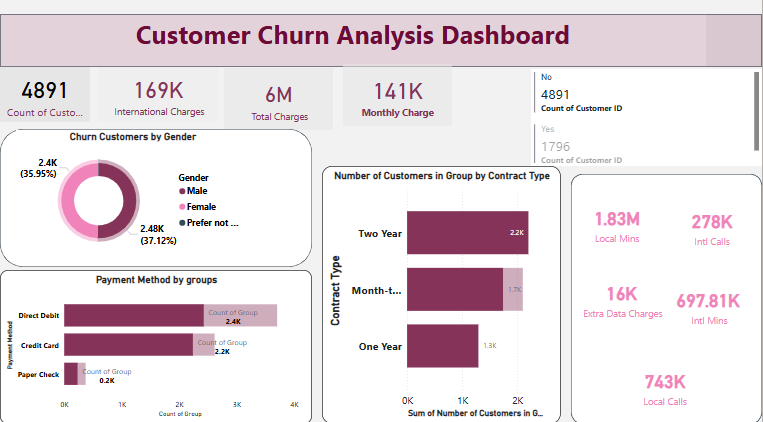

This screenshot's page, from the dashboard's own definition file:
{"tool":"powerbi","page":{"name":"Page 1","canvas":[1280,720],"ordinal":0},"visuals":[{"type":"card","fields":{"Values":["CountNonNull(Vertex Mobile Net - Data.Customer ID)"]},"box":[0,120.9,151.2,92.4],"z":0},{"type":"textbox","box":[0,31.9,1185.9,89],"z":1000},{"type":"shape","box":[0,31.9,1280,89],"z":2000},{"type":"card","fields":{"Values":["Sum(Vertex Mobile Net - Data.Extra International Charges)"]},"box":[164.6,120.9,201.6,92.4],"z":3000},{"type":"card","fields":{"Values":["Sum(Vertex Mobile Net - Data.Total Charges)"]},"box":[376.3,122.6,183.1,104.1],"z":4000},{"type":"card","fields":{"Values":["Sum(Vertex Mobile Net - Data.Monthly Charge)"]},"box":[576.2,115.9,183.1,104.1],"z":5000},{"type":"shape","box":[0,225.1,524.1,231.8],"z":6000},{"type":"donutChart","title":"Churn Customers by Gender","fields":{"Category":["Vertex Mobile Net - Data.Gender"],"Y":["CountNonNull(Vertex Mobile Net - Data.Customer ID)"]},"box":[26.9,226.8,393.1,218.4],"z":7000},{"type":"shape","box":[959.2,300.7,320.8,419.9],"z":8000},{"type":"card","fields":{"Values":["Sum(Vertex Mobile Net - Data.Intl Mins)"]},"box":[1120.4,473.7,137.7,95.7],"z":9000},{"type":"card","fields":{"Values":["Sum(Vertex Mobile Net - Data.Extra Data Charges)"]},"box":[967.6,461.9,152.9,95.7],"z":10000},{"type":"card","fields":{"Values":["Sum(Vertex Mobile Net - Data.Local Mins)"]},"box":[967.6,336,137.7,95.7],"z":11000},{"type":"card","fields":{"Values":["Sum(Vertex Mobile Net - Data.Intl Calls)"]},"box":[1127.1,341,137.7,95.7],"z":12000},{"type":"card","fields":{"Values":["Sum(Vertex Mobile Net - Data.Local Calls)"]},"box":[1048.2,609.8,137.7,95.7],"z":13000},{"type":"multiRowCard","fields":{"Values":["Vertex Mobile Net - Data.Customer ID","Vertex Mobile Net - Data.Churn Label"]},"box":[892,124.3,388,162.9],"z":14000},{"type":"clusteredBarChart","title":" Payment Method by groups","fields":{"Category":["Vertex Mobile Net - Data.Payment Method"],"Y":["CountNonNull(Vertex Mobile Net - Data.Group)"]},"box":[0,461.9,524.1,258.7],"z":15000},{"type":"clusteredBarChart","title":"Number of Customers in Group by Contract Type","fields":{"Category":["Vertex Mobile Net - Data.Contract Type"],"Y":["Sum(Vertex Mobile Net - Data.Number of Customers in Group)"]},"box":[540.9,287.2,401.5,433.4],"z":16000}]}

Visuals, with their boxes in screenshot pixels (x1, y1, x2, y2), scaled from the page's 1280x720 canvas onto the 763x422 screenshot:
card - CountNonNull(Vertex Mobile Net - Data.Customer ID): box(0, 71, 90, 125)
textbox: box(0, 19, 707, 71)
shape: box(0, 19, 762, 71)
card - Sum(Vertex Mobile Net - Data.Extra International Charges): box(98, 71, 218, 125)
card - Sum(Vertex Mobile Net - Data.Total Charges): box(224, 72, 333, 133)
card - Sum(Vertex Mobile Net - Data.Monthly Charge): box(343, 68, 453, 129)
shape: box(0, 132, 312, 268)
"Churn Customers by Gender" donutChart: box(16, 133, 250, 261)
shape: box(572, 176, 762, 421)
card - Sum(Vertex Mobile Net - Data.Intl Mins): box(668, 278, 750, 334)
card - Sum(Vertex Mobile Net - Data.Extra Data Charges): box(577, 271, 668, 327)
card - Sum(Vertex Mobile Net - Data.Local Mins): box(577, 197, 659, 253)
card - Sum(Vertex Mobile Net - Data.Intl Calls): box(672, 200, 754, 256)
card - Sum(Vertex Mobile Net - Data.Local Calls): box(625, 357, 707, 414)
multiRowCard - Vertex Mobile Net - Data.Customer ID x Vertex Mobile Net - Data.Churn Label: box(532, 73, 762, 168)
" Payment Method by groups" clusteredBarChart: box(0, 271, 312, 421)
"Number of Customers in Group by Contract Type" clusteredBarChart: box(322, 168, 562, 421)
